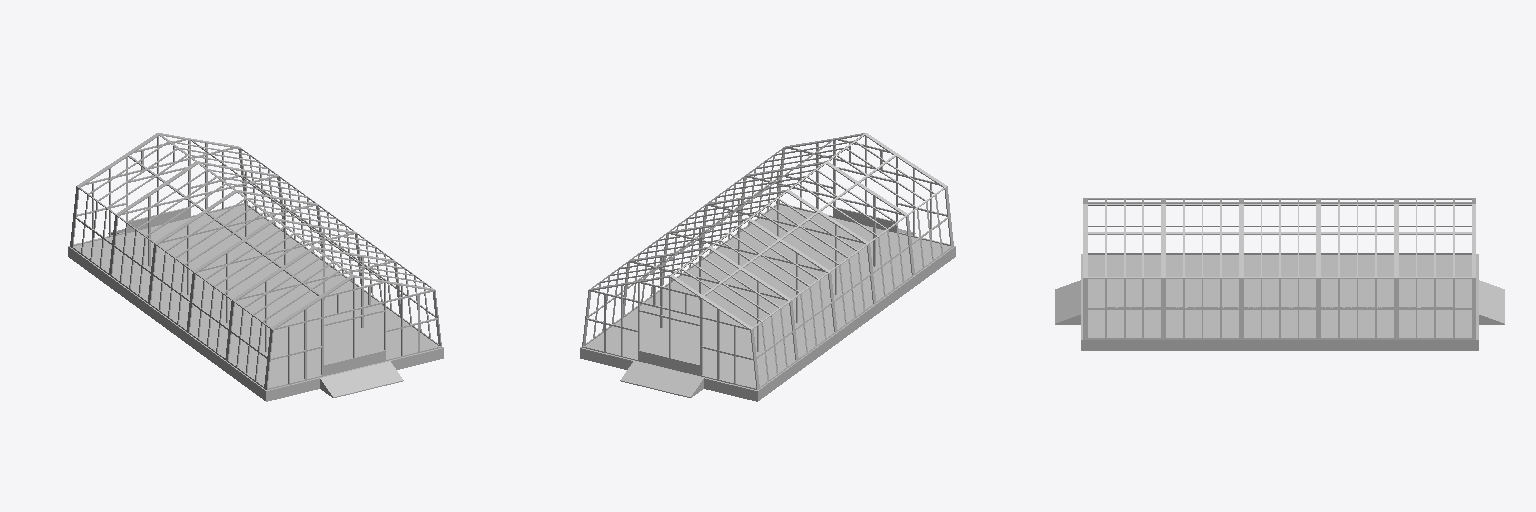
The model's file is glasshouse small frame.obj.
3 views of the same model, side by side, from view 1: azimuth 30°, elevation 25°; view 2: azimuth 150°, elevation 25°; view 3: azimuth 270°, elevation 25° (orthographic).
Size of the model in its own units: 7.33 by 4.06 by 16.05.